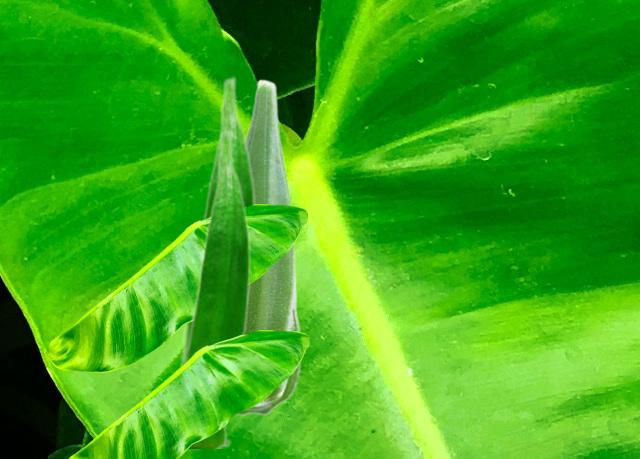okra: (176, 75, 256, 369), (181, 128, 251, 447), (236, 78, 301, 415)
